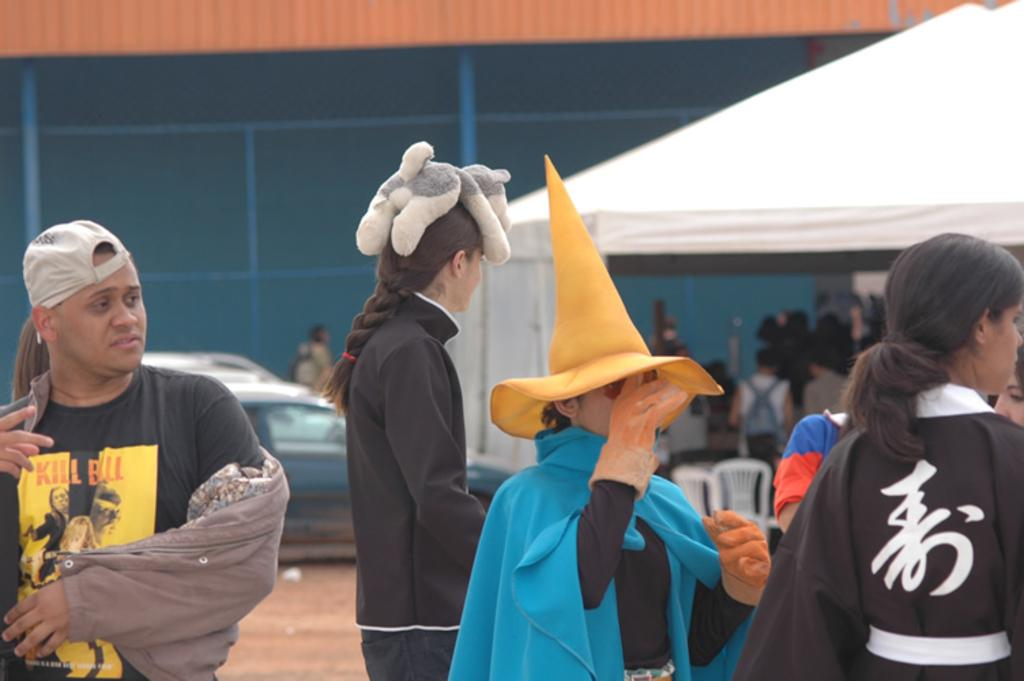Hat: (489, 155, 725, 442)
